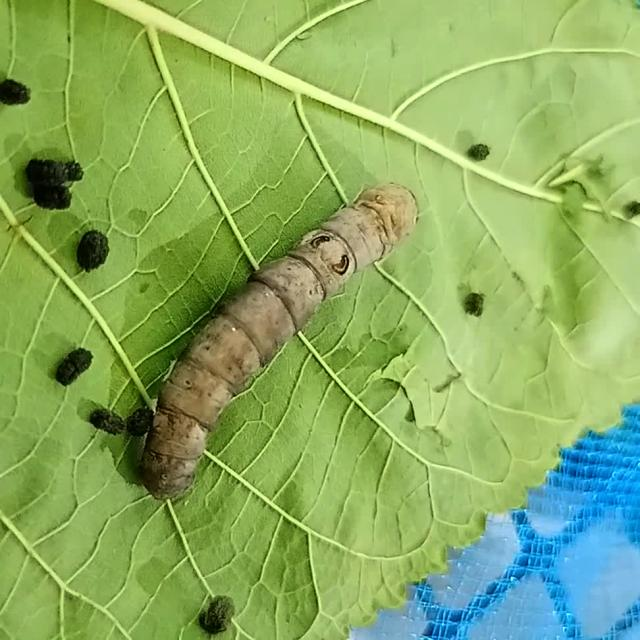Grasserie: (121, 156, 427, 504)
